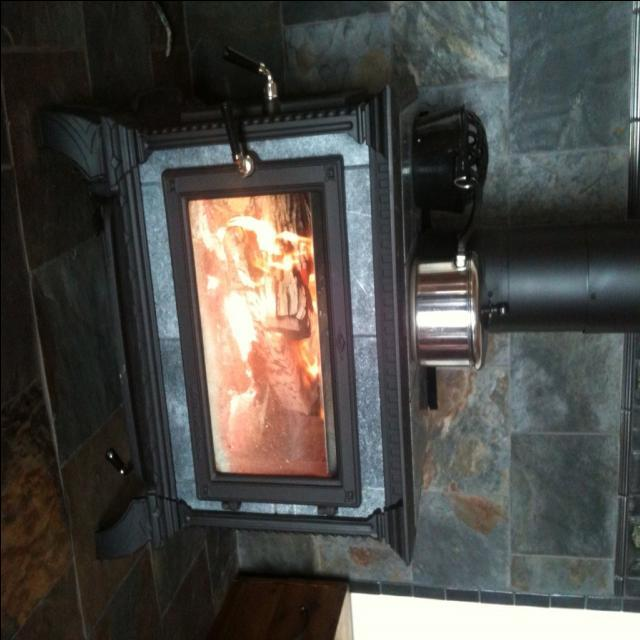Fire: (202, 200, 324, 468)
